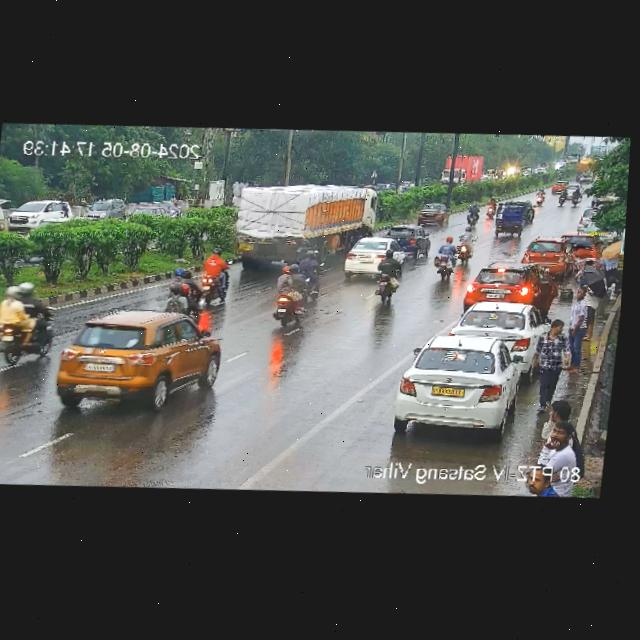car: (49, 305, 233, 414), (388, 329, 535, 436), (441, 296, 548, 349), (467, 260, 545, 304), (342, 235, 414, 273), (9, 196, 71, 237), (374, 224, 431, 257), (520, 239, 574, 271), (489, 202, 533, 238), (87, 194, 129, 224), (560, 231, 606, 258), (415, 201, 450, 226), (578, 170, 596, 186), (550, 181, 562, 195)
motorcycle: (0, 287, 59, 364), (188, 244, 233, 305), (270, 259, 307, 327), (366, 253, 408, 304), (159, 265, 202, 313), (426, 236, 459, 279), (301, 246, 325, 301), (453, 229, 481, 265), (552, 186, 584, 208), (466, 202, 481, 228), (533, 186, 548, 207), (486, 195, 497, 218)
person: (525, 313, 572, 413), (537, 395, 579, 463), (535, 429, 574, 485), (565, 290, 594, 348), (599, 243, 623, 296), (573, 258, 605, 296)
truck: (231, 178, 377, 265), (434, 155, 487, 189), (563, 152, 582, 166)
